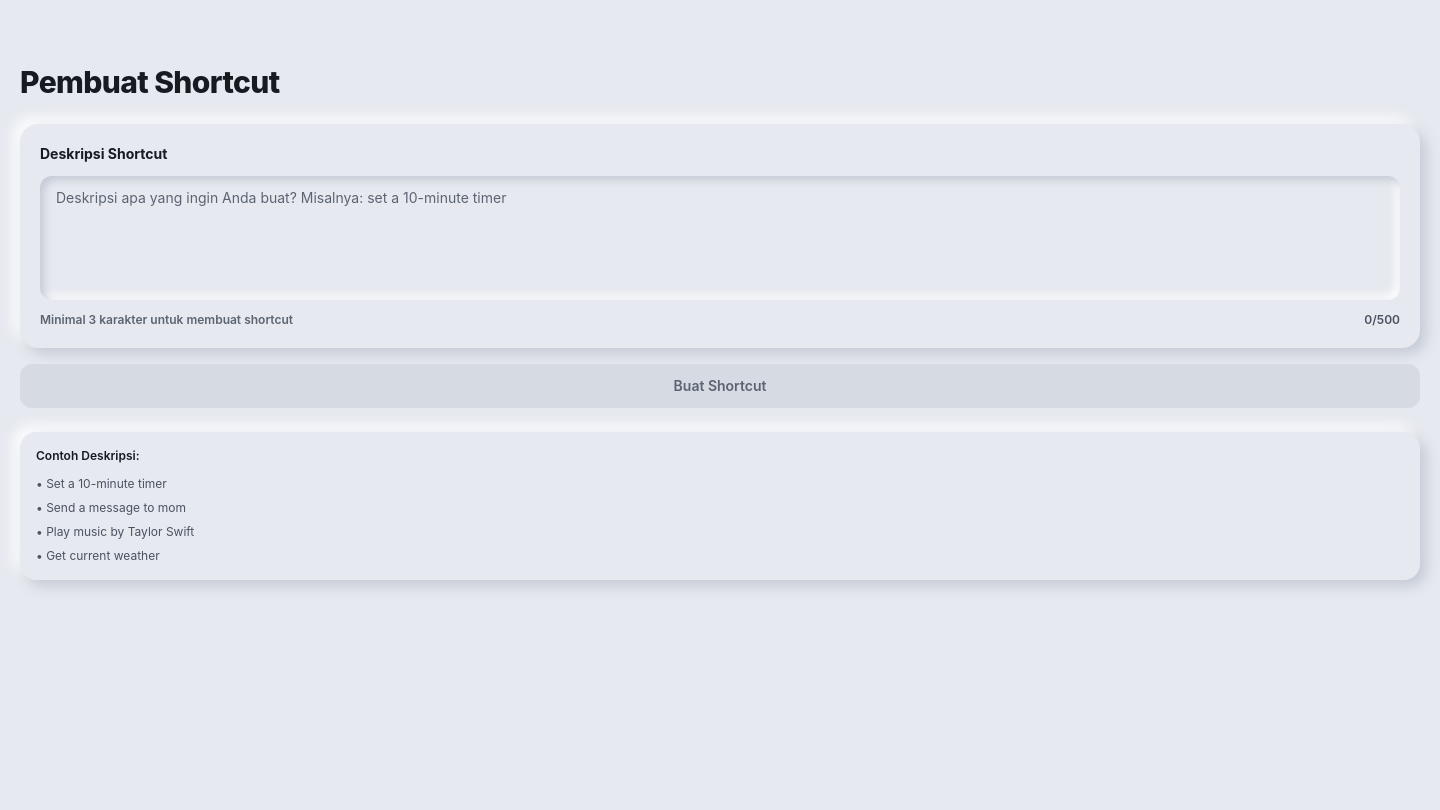
Scenario: ShortcutsScreen - E2E Frontend Tests › 1. Happy Path: Valid Shortcut Generation › shows the returned filename after a successful generate
The width and height of the screenshot is (1440, 810).
Type "set a timer" into the text box with placeholder "Deskripsi apa" at (720, 238), box [40,176,1400,300]
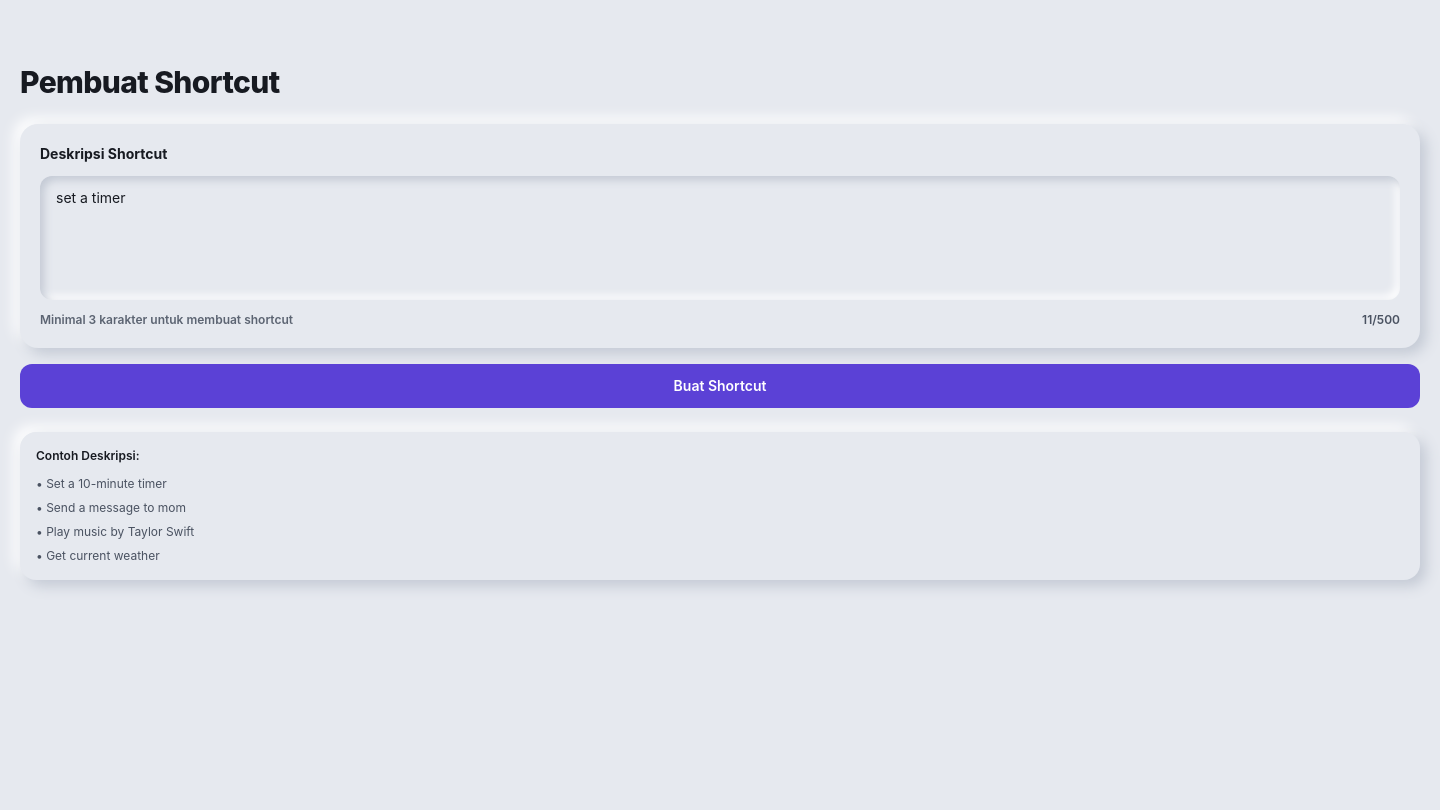
Click the button "Buat Shortcut" at (720, 386), box [20,364,1420,408]
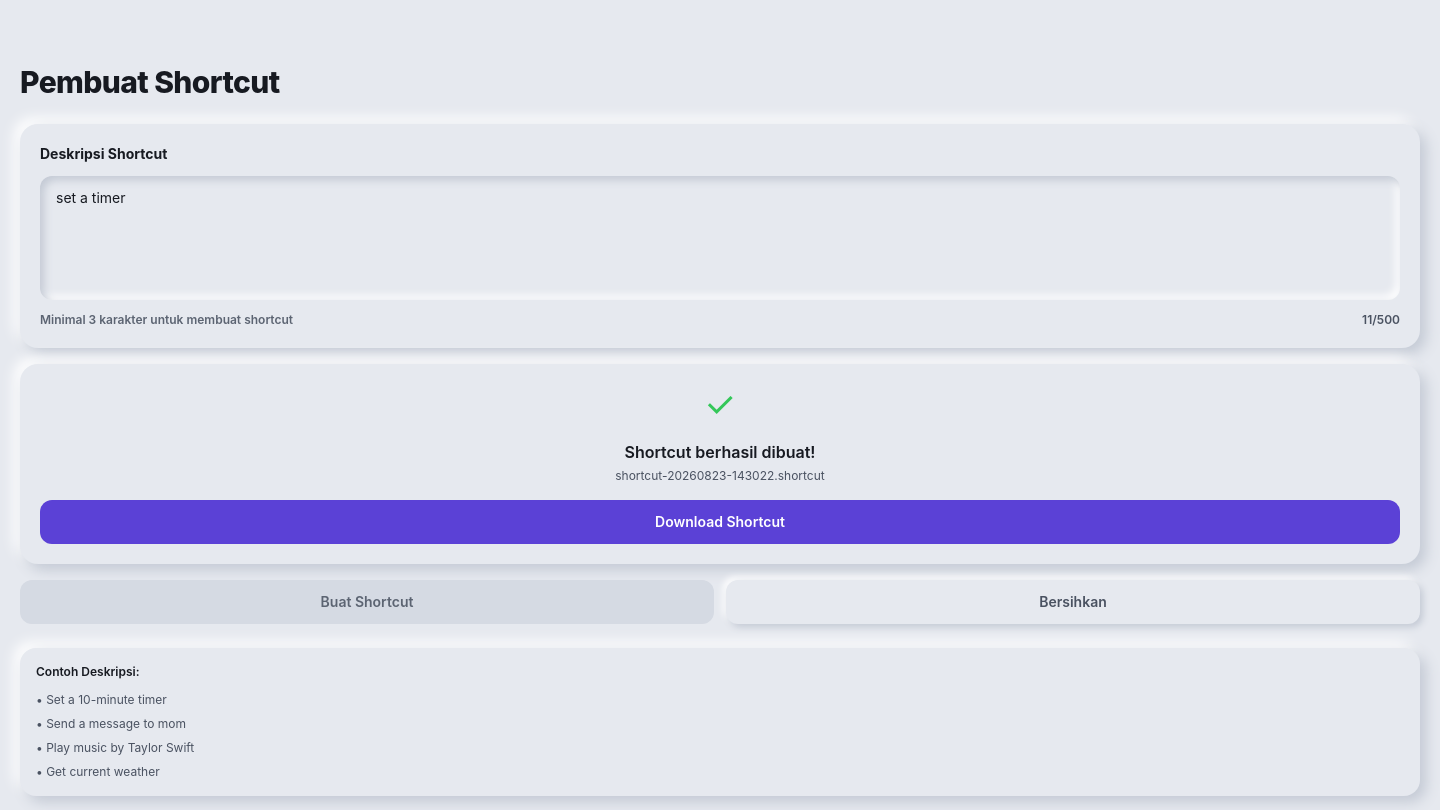
Expected: the text "shortcut-20260823-143022.shortcut" is shown, [615,468,825,484]
Expected: the button "Download Shortcut" is shown, [40,500,1400,544]
